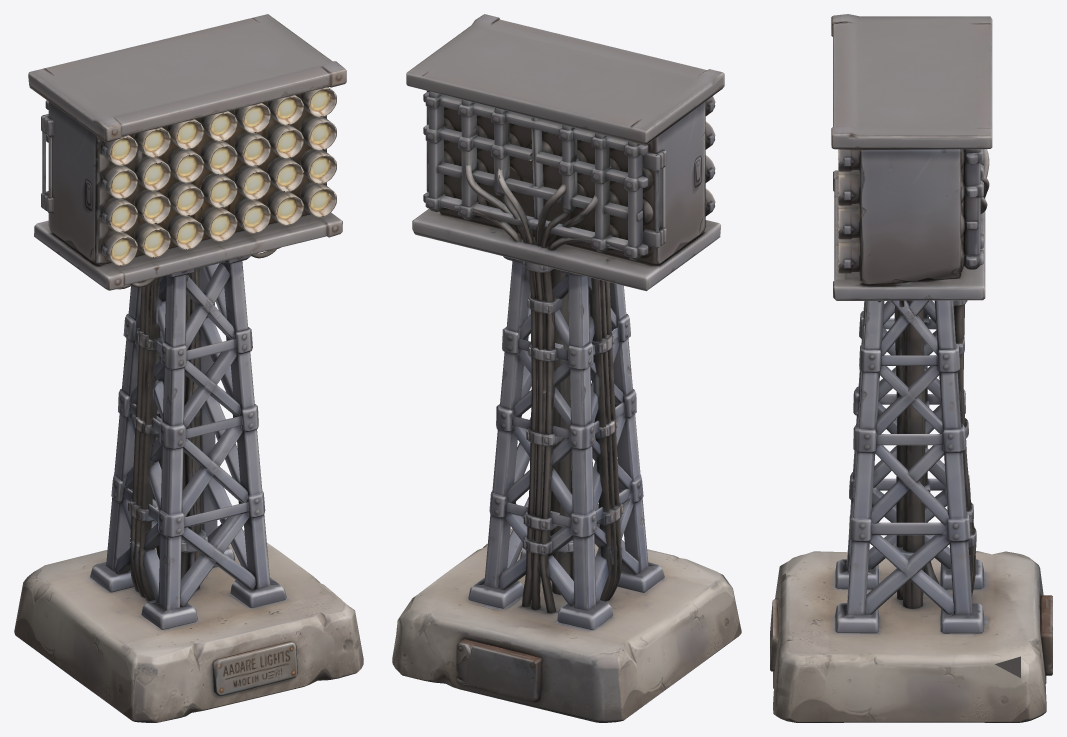
The model's file is industrial_floodlight_3d_model.fbx.
3 renders of one model, left to right at view 1: azimuth 30°, elevation 25°; view 2: azimuth 150°, elevation 25°; view 3: azimuth 270°, elevation 25°, orthographic.
Parts seen in each view (by area): view 1: tripo_node_37ec7310; view 2: tripo_node_37ec7310; view 3: tripo_node_37ec7310.
Boxes of the visible parts, x1,y1,x2,y2 form: tripo_node_37ec7310: (14, 14, 363, 722); tripo_node_37ec7310: (392, 14, 741, 722); tripo_node_37ec7310: (770, 14, 1052, 722).
Bounding box in the file's own units: 0.4321 × 0.9995 × 0.4312.
1 material, 1 textured.
